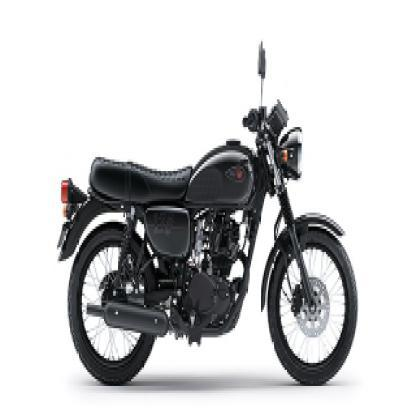Motorcycle: (49, 39, 362, 393)
